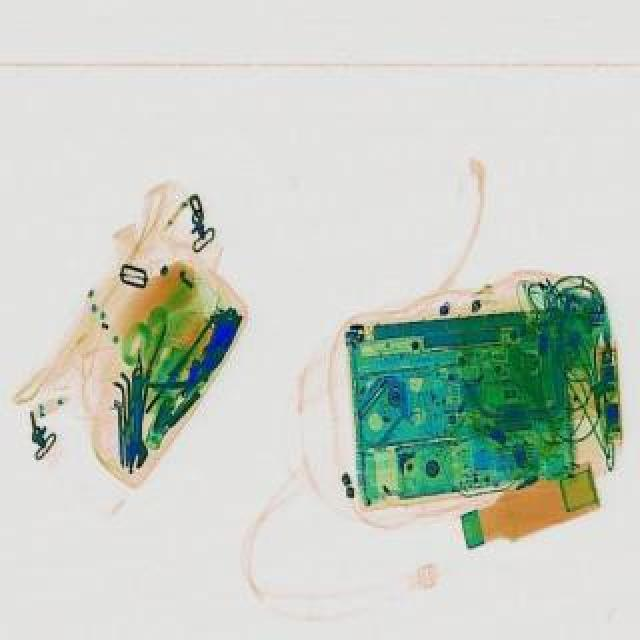scissors: (122, 368, 146, 468)
